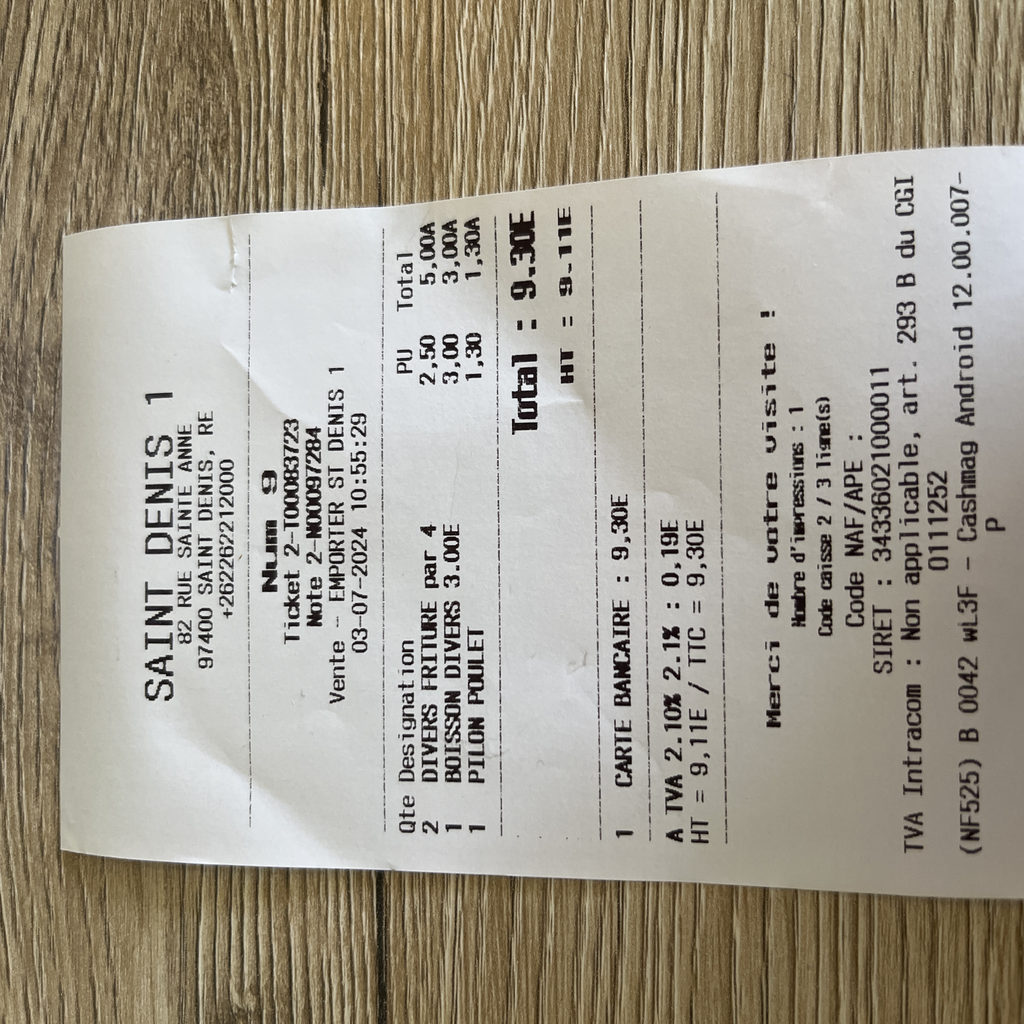recipt: (59, 141, 1022, 898)
